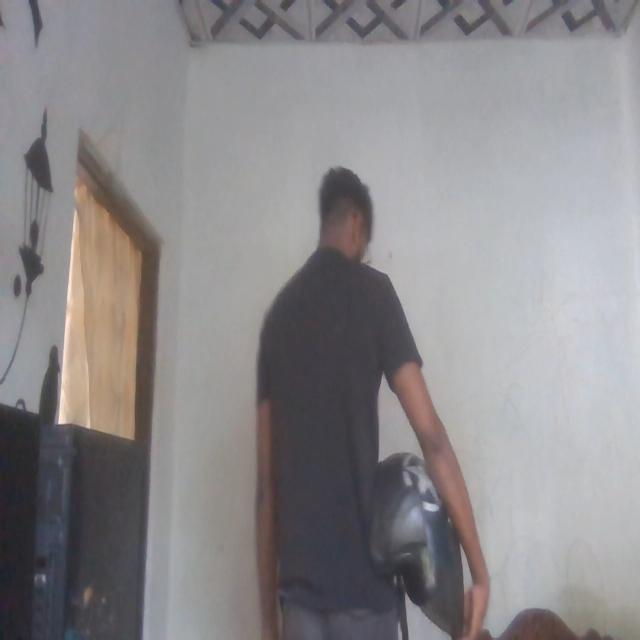Person: (256, 149, 487, 640)
